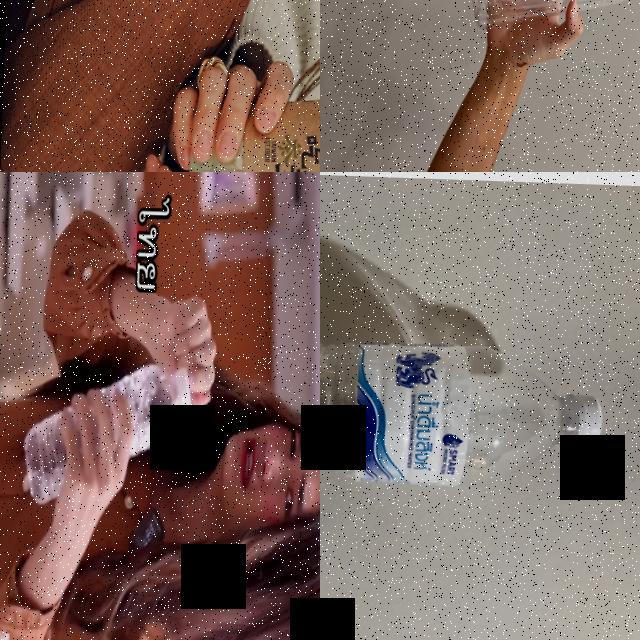bottle: (320, 329, 603, 490), (20, 359, 192, 516), (461, 0, 640, 44)
cup: (183, 79, 320, 172)
